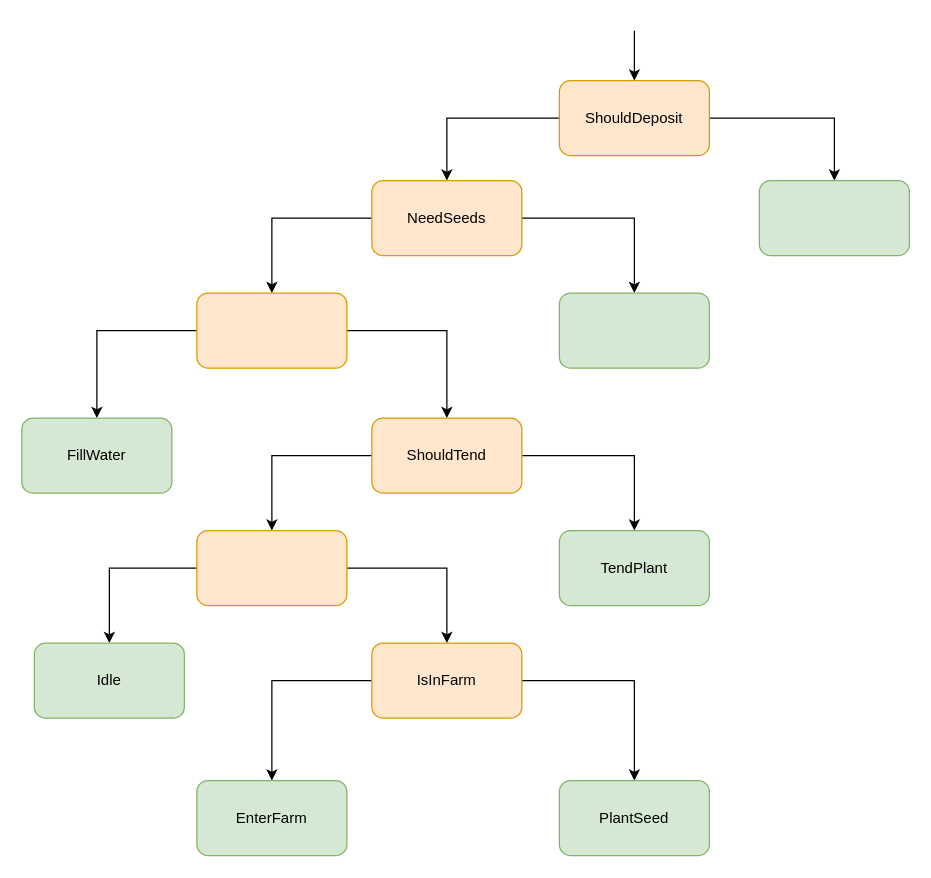
Image size: 931x878. Some labels were removed from this diagram. Each missing label, with the centre of its shape:
DepositFruit: pixel 833 217
FetchSeeds: pixel 633 330
HasEnoughWater: pixel 271 330
ShouldPlant: pixel 271 567
